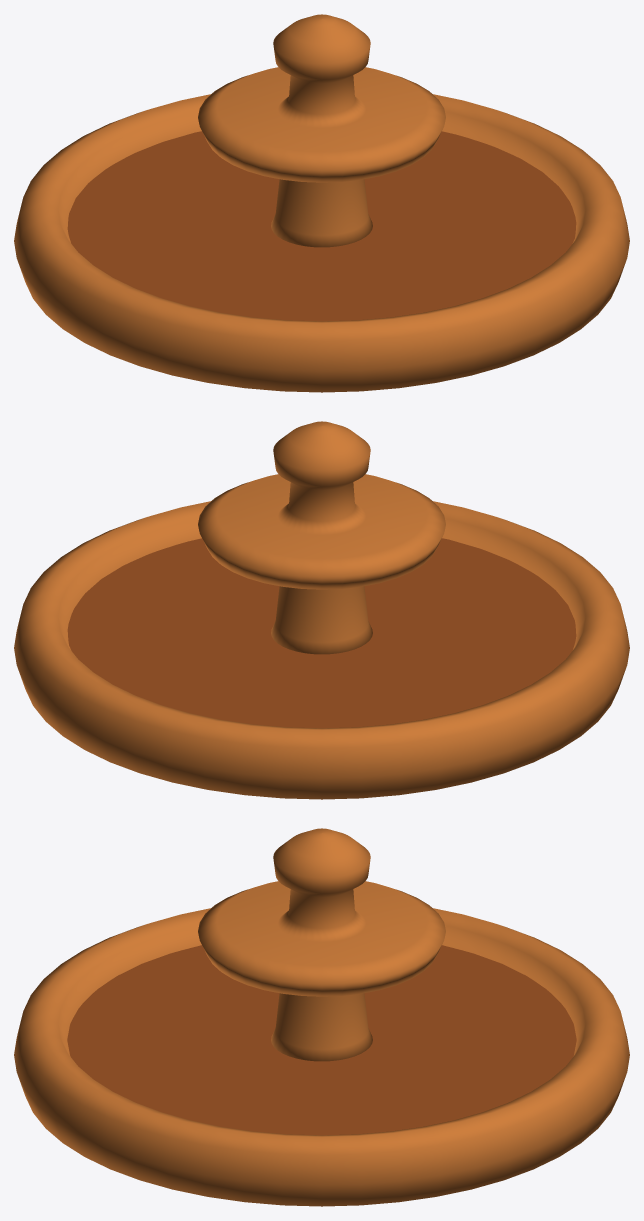
Rendered from fountain.glb.
The picture shows the model from 3 angles, top to bottom: view 1: azimuth 30°, elevation 25°; view 2: azimuth 150°, elevation 25°; view 3: azimuth 270°, elevation 25°; orthographic projection.
Visible parts, largest first — view 1: fountain; view 2: fountain; view 3: fountain.
Part boxes in pixels (x1,y1,x2,y2): fountain: (14, 14, 629, 392); fountain: (14, 421, 629, 799); fountain: (14, 828, 629, 1206).
Size of the model in its own units: 5.56 by 2.56 by 5.56.
